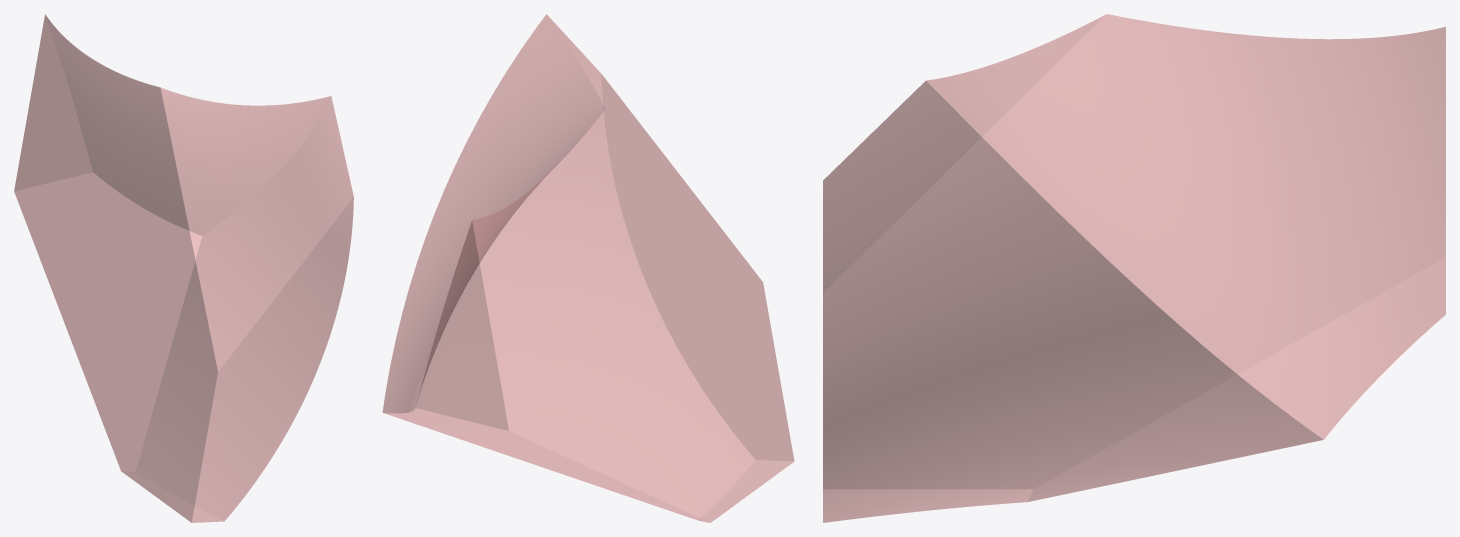
3 views of the same model, side by side, from view 1: azimuth 30°, elevation 25°; view 2: azimuth 150°, elevation 25°; view 3: azimuth 270°, elevation 25° (orthographic). The views are drawn at different scales.
Visible parts, largest first — view 1: Bloc = Etape 6; view 2: Bloc = Etape 6; view 3: Bloc = Etape 6.
Part boxes in pixels (x1,y1,x2,y2): Bloc = Etape 6: (14,14,353,522); Bloc = Etape 6: (382,14,794,522); Bloc = Etape 6: (823,14,1445,522).
Size of the model in its own units: 0.3231 by 0.567 by 0.5869.
